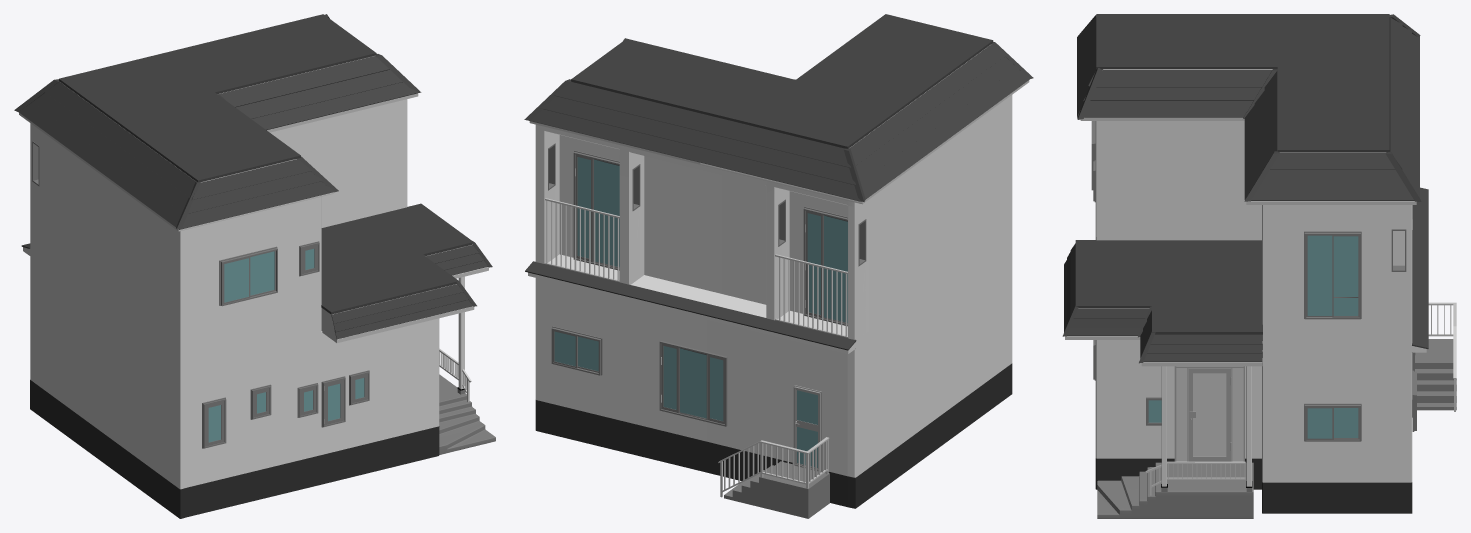
The model's file is House_11_high.fbx.
The picture shows the model from 3 angles, left to right: view 1: azimuth 30°, elevation 25°; view 2: azimuth 150°, elevation 25°; view 3: azimuth 270°, elevation 25°; orthographic projection. The views are drawn at different scales.
Visible parts, largest first — view 1: pCube132; view 2: pCube132; view 3: pCube132.
Boxes of the visible parts, left/top/right/bottom form: pCube132: left=14, top=14, right=495, bottom=518; pCube132: left=524, top=14, right=1033, bottom=518; pCube132: left=1062, top=14, right=1456, bottom=518.
Bounding box in the file's own units: 731 × 676 × 686.
